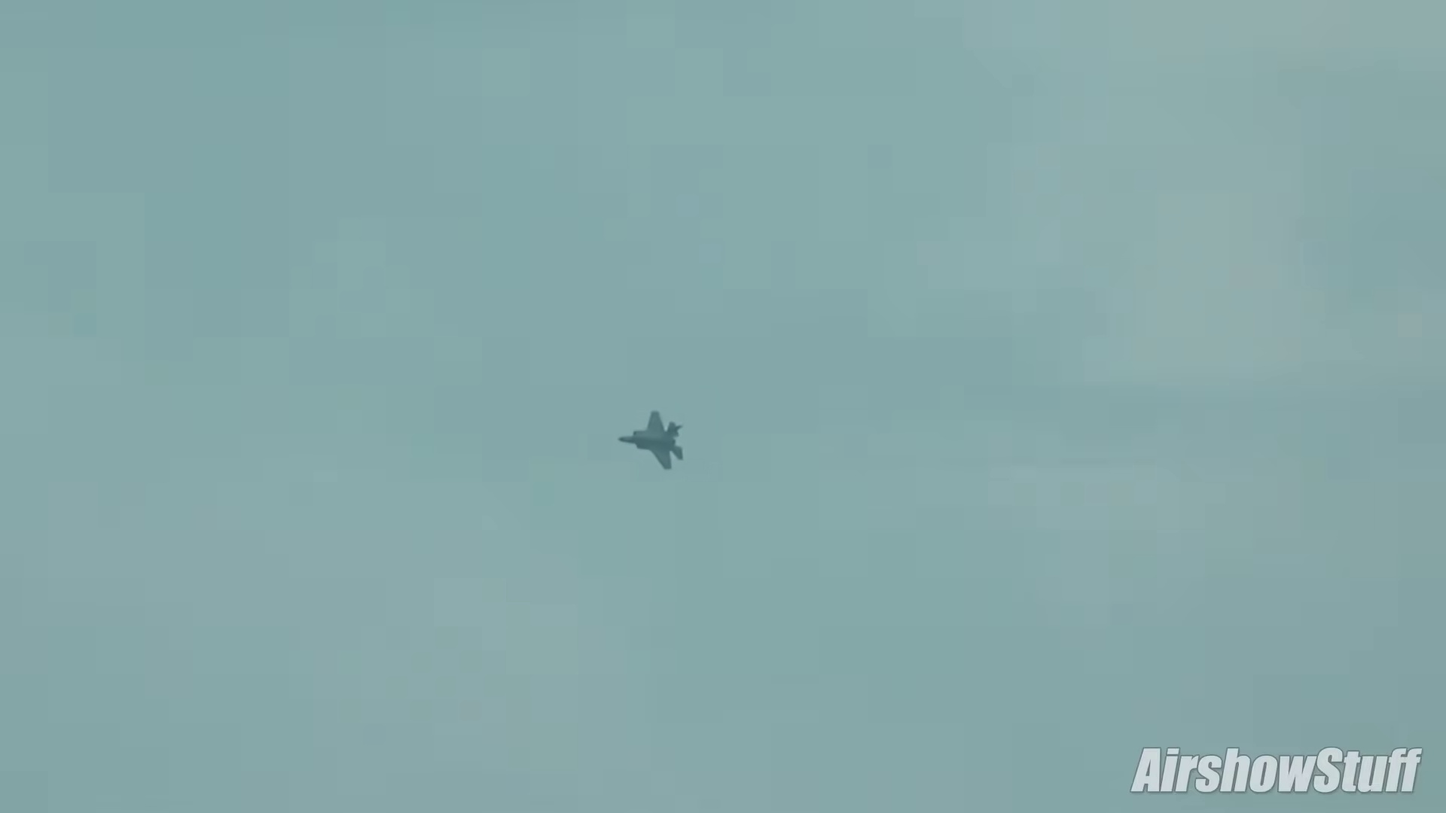F35: (616, 409, 689, 473)
